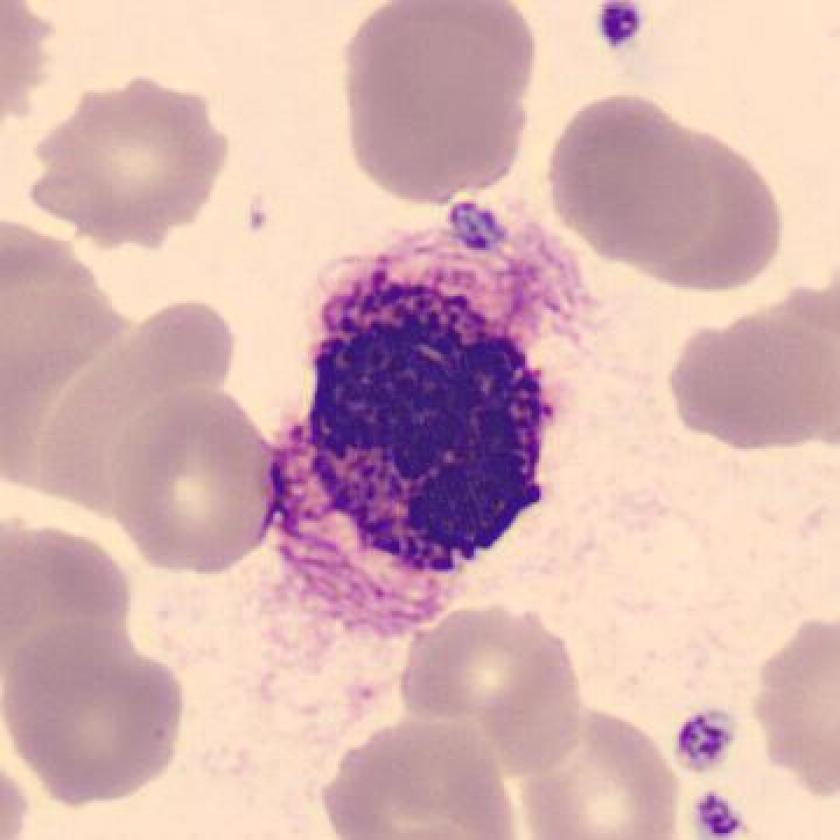basophil: (281, 242, 568, 617)
